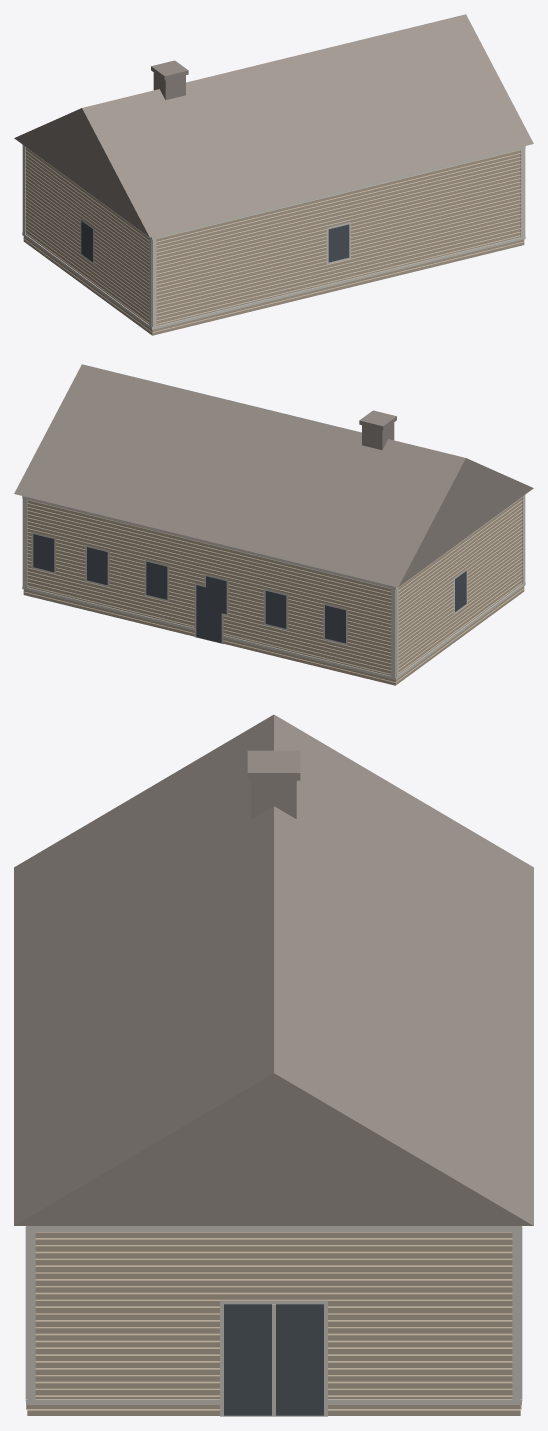
File: old_bank_building__frame_1834.glb
The picture shows the model from 3 angles, top to bottom: view 1: azimuth 30°, elevation 25°; view 2: azimuth 150°, elevation 25°; view 3: azimuth 270°, elevation 25°; orthographic projection. The views are drawn at different scales.
Visible parts, largest first — view 1: old_bank_building__frame_1834; view 2: old_bank_building__frame_1834; view 3: old_bank_building__frame_1834.
Boxes of the visible parts, left/top/right/bottom form: old_bank_building__frame_1834: left=14, top=14, right=533, bottom=335; old_bank_building__frame_1834: left=14, top=364, right=533, bottom=685; old_bank_building__frame_1834: left=14, top=714, right=533, bottom=1416.
Bounding box in the file's own units: 15.74 × 7.84 × 9.64.
